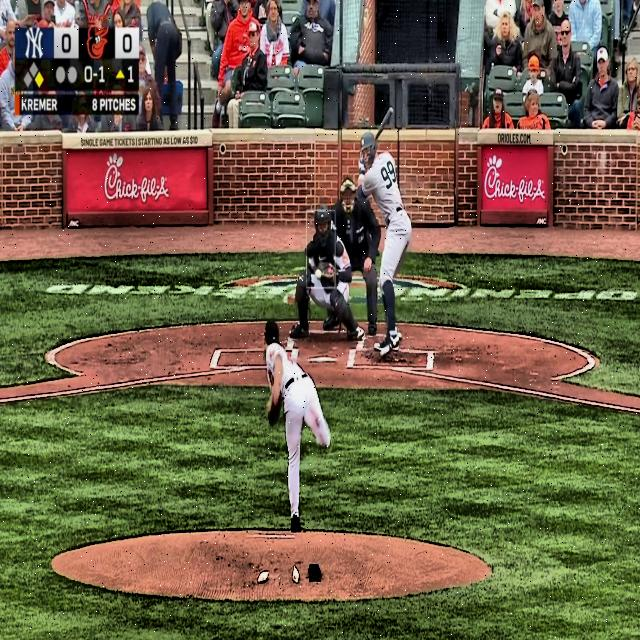baseball: (315, 268, 322, 280)
